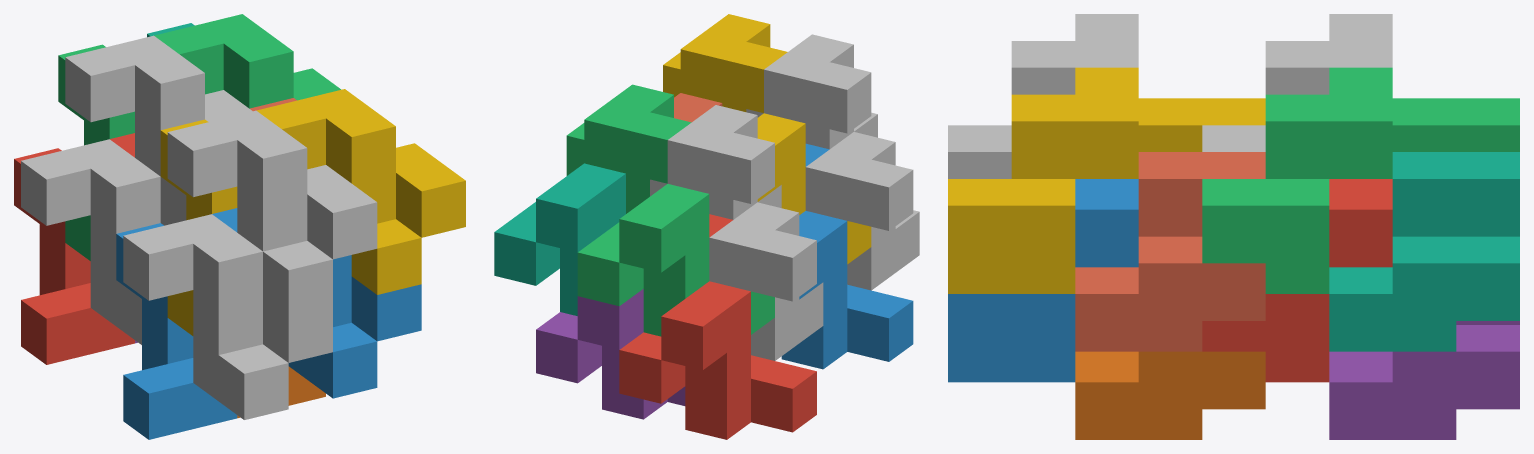
The model's file is tiling.obj.
3 renders of one model, left to right at view 1: azimuth 30°, elevation 25°; view 2: azimuth 150°, elevation 25°; view 3: azimuth 270°, elevation 25°, orthographic. The views are drawn at different scales.
Visible parts, largest first — view 1: copy_2_domain_4, copy_2_domain_2, copy_2_domain_8, copy_2_domain_1, copy_2_domain_3, copy_1_domain_2, copy_1_domain_1, copy_2_domain_6, copy_2_domain_7, copy_1_domain_4, copy_1_domain_3, copy_1_domain_6; view 2: copy_1_domain_1, copy_1_domain_3, copy_2_domain_2, copy_2_domain_1, copy_1_domain_7, copy_1_domain_2, copy_2_domain_3, copy_2_domain_4, copy_2_domain_7, copy_1_domain_5, copy_2_domain_8, copy_1_domain_4 (+1 smaller); view 3: copy_1_domain_7, copy_2_domain_8, copy_2_domain_7, copy_1_domain_8, copy_2_domain_6, copy_1_domain_5, copy_1_domain_6, copy_2_domain_5, copy_2_domain_4, copy_2_domain_3, copy_1_domain_3, copy_1_domain_4.
Boxes of the visible parts, box(x1,y1,x2,y2) form: copy_2_domain_4: box(167, 110, 377, 316); copy_2_domain_2: box(123, 214, 332, 419); copy_2_domain_8: box(256, 89, 465, 294); copy_2_domain_1: box(21, 139, 160, 344); copy_2_domain_3: box(65, 35, 252, 225); copy_1_domain_2: box(116, 223, 237, 439); copy_1_domain_1: box(14, 148, 134, 364); copy_2_domain_6: box(212, 208, 421, 398); copy_2_domain_7: box(154, 14, 340, 108); copy_1_domain_4: box(160, 119, 237, 335); copy_1_domain_3: box(58, 44, 134, 260); copy_1_domain_6: box(237, 366, 325, 418); copy_1_domain_1: box(619, 281, 816, 439); copy_1_domain_3: box(577, 184, 774, 336); copy_2_domain_2: box(805, 132, 919, 290); copy_2_domain_1: box(709, 202, 823, 360); copy_1_domain_7: box(494, 163, 625, 315); copy_1_domain_2: box(781, 211, 913, 369); copy_2_domain_3: box(650, 105, 781, 219); copy_2_domain_4: box(746, 34, 877, 149); copy_2_domain_7: box(566, 84, 691, 213); copy_1_domain_5: box(536, 289, 685, 419); copy_2_domain_8: box(663, 14, 787, 112); copy_1_domain_4: box(757, 113, 871, 264); copy_1_domain_7: box(1329, 152, 1519, 351); copy_2_domain_8: box(948, 67, 1138, 293); copy_2_domain_7: box(1202, 67, 1392, 293); copy_1_domain_8: box(1075, 152, 1265, 351); copy_2_domain_6: box(948, 179, 1138, 382); copy_1_domain_5: box(1329, 321, 1519, 439); copy_1_domain_6: box(1075, 351, 1265, 439); copy_2_domain_5: box(1202, 179, 1392, 382); copy_2_domain_4: box(948, 14, 1138, 178); copy_2_domain_3: box(1202, 14, 1392, 151); copy_1_domain_3: box(1392, 98, 1519, 151); copy_1_domain_4: box(1138, 98, 1265, 151).
Size of the model in its own units: 6 by 6 by 9.
